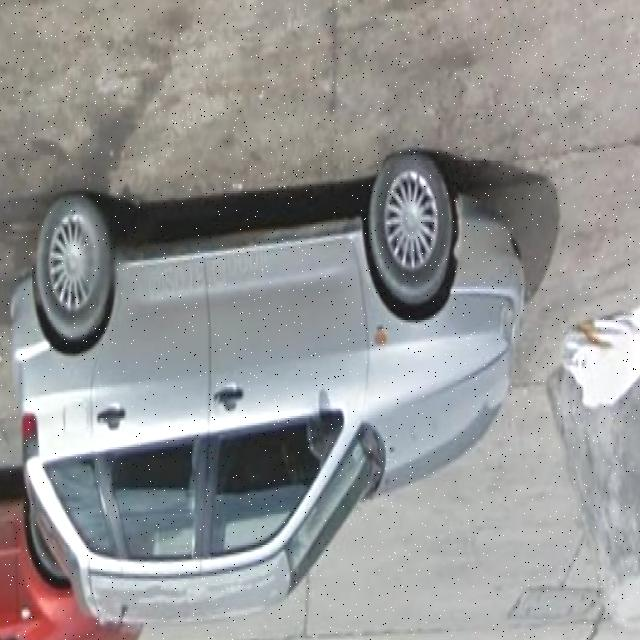car: (18, 155, 528, 605)
